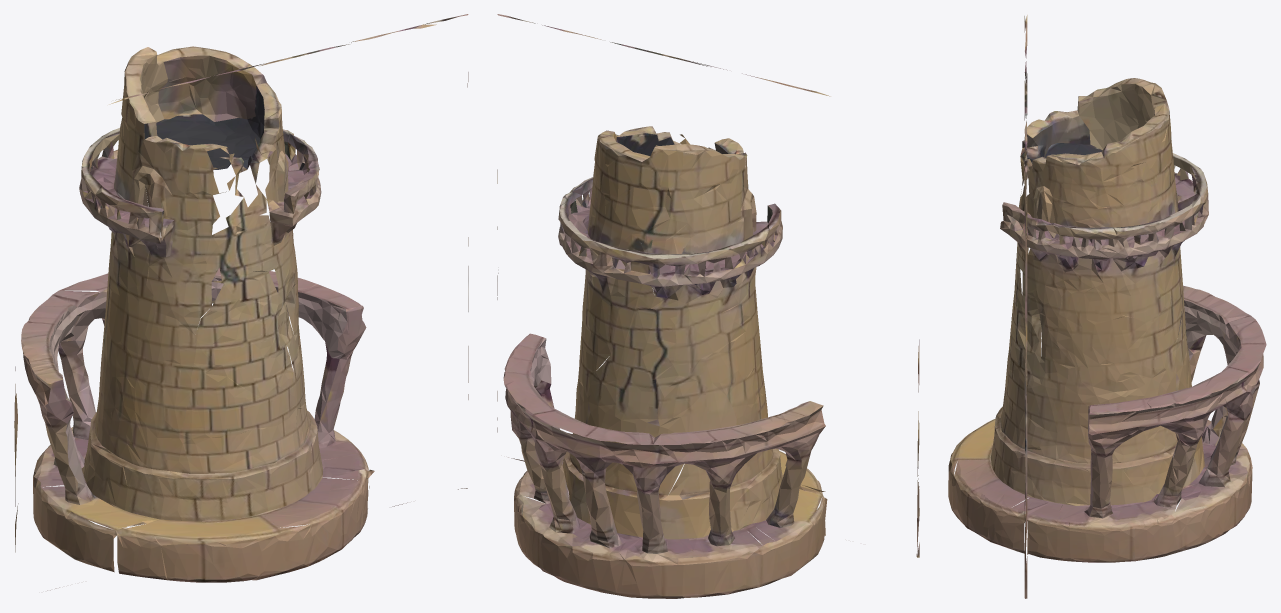
File: tower.glb
3 views of the same model, side by side, from view 1: azimuth 30°, elevation 25°; view 2: azimuth 150°, elevation 25°; view 3: azimuth 270°, elevation 25° (orthographic). The views are drawn at different scales.
Parts seen in each view (by area): view 1: geometry_0; view 2: geometry_0; view 3: geometry_0.
Boxes of the visible parts, box(x1,y1,x2,y2) form: geometry_0: box(14, 14, 468, 590); geometry_0: box(497, 14, 919, 598); geometry_0: box(948, 15, 1266, 598).
Bounding box in the file's own units: 4.1 × 4.1 × 2.77.
Materials: 1 (1 with a texture image).
